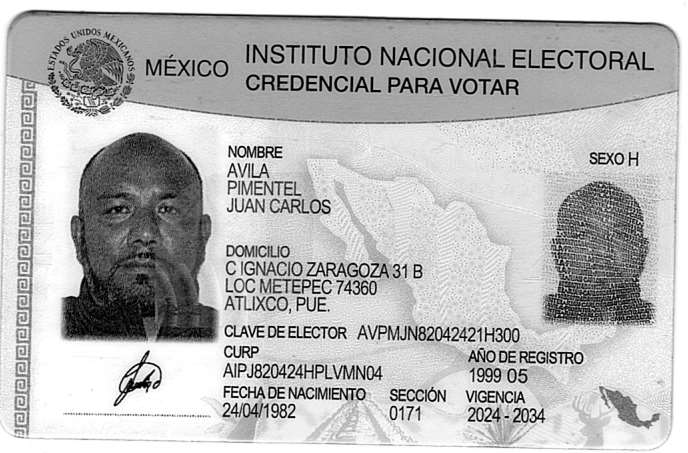ESCUDO: (47, 27, 136, 117)
MAPA: (597, 385, 662, 430)
PALABRA: (511, 48, 655, 71)
